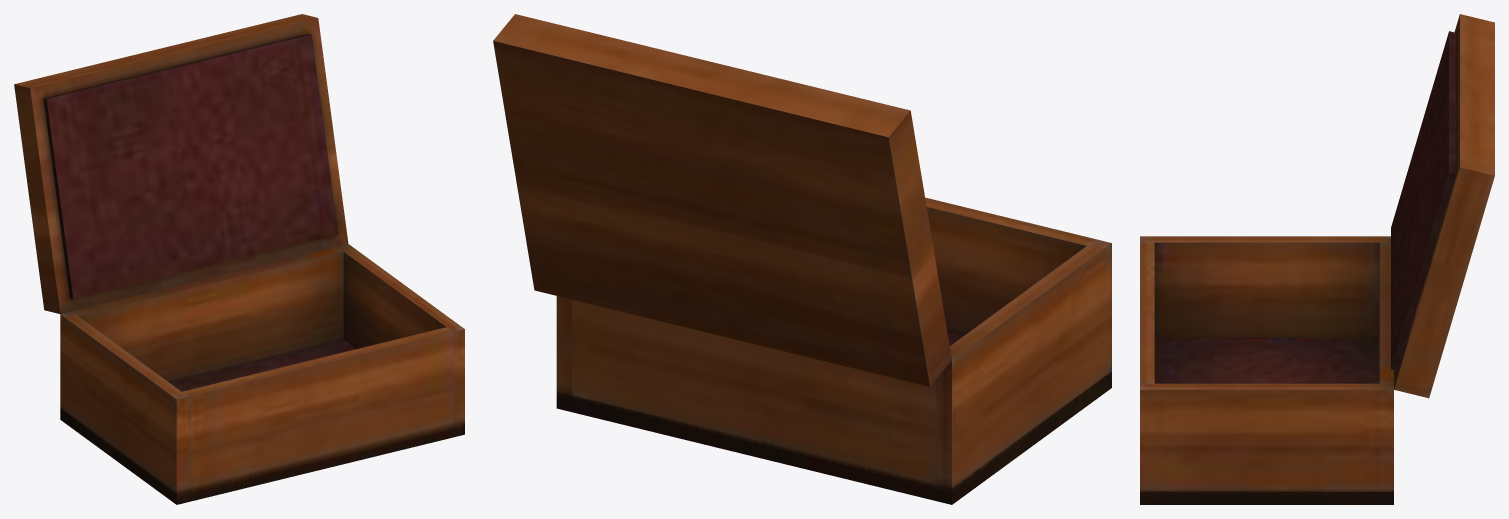
The model's file is casket_lod1_web.glb.
The picture shows the model from 3 angles, left to right: view 1: azimuth 30°, elevation 25°; view 2: azimuth 150°, elevation 25°; view 3: azimuth 270°, elevation 25°; orthographic projection. The views are drawn at different scales.
Visible parts, largest first — view 1: Casket_Body; view 2: Casket_Body; view 3: Casket_Body.
Part boxes in pixels (x1,y1,x2,y2): Casket_Body: (14, 14, 464, 504); Casket_Body: (493, 14, 1111, 504); Casket_Body: (1140, 14, 1494, 504).
Size of the model in its own units: 0.2 by 0.2052 by 0.1956.
Materials: 1 (1 with a texture image).
